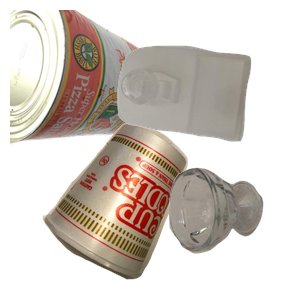glass: (166, 165, 300, 300)
metal: (10, 10, 159, 152)
plastic: (115, 43, 300, 177)
trash: (40, 121, 221, 300)
